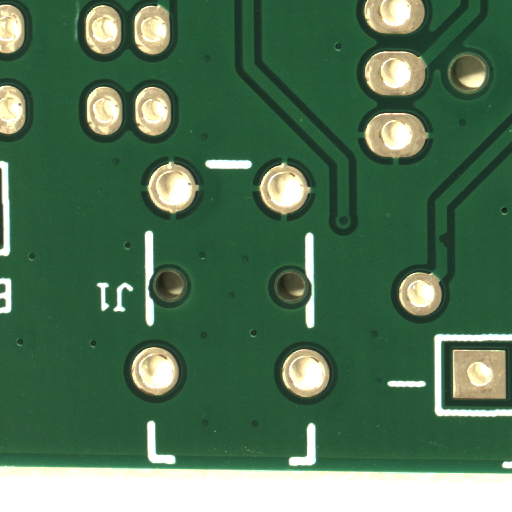Mouse_bite: (443, 240, 452, 255)
